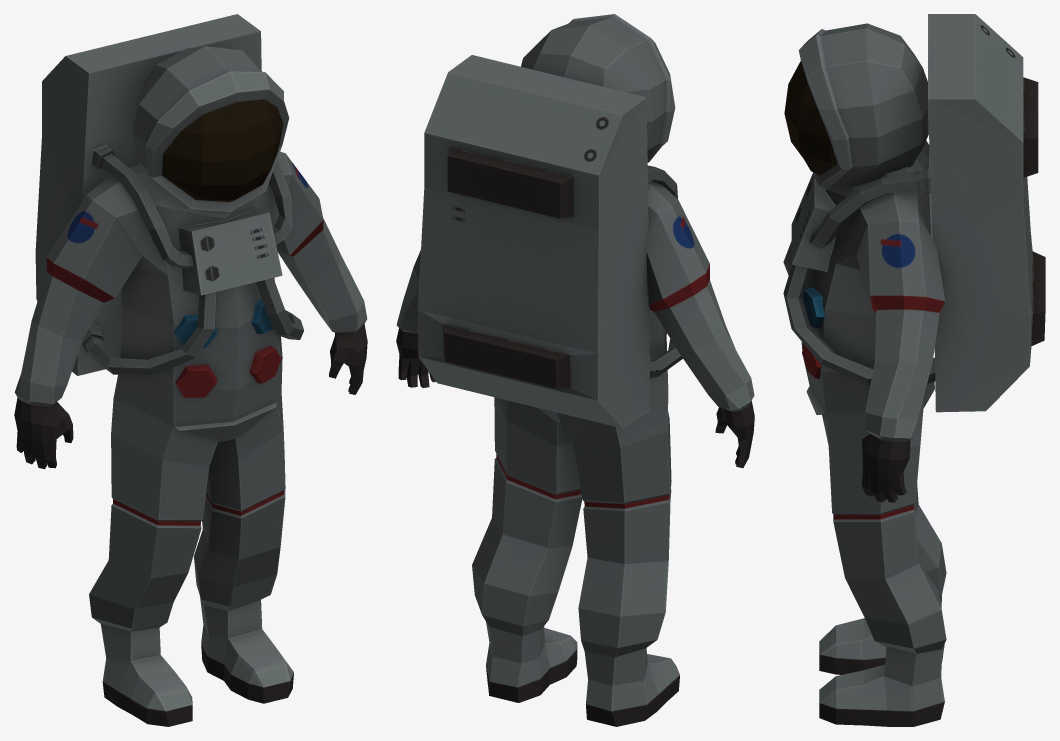
The model's file is Hershey.Astronaut.glb.
3 renders of one model, left to right at view 1: azimuth 30°, elevation 25°; view 2: azimuth 150°, elevation 25°; view 3: azimuth 270°, elevation 25°, orthographic.
Parts seen in each view (by area): view 1: node-0_n3d; view 2: node-0_n3d; view 3: node-0_n3d.
Boxes of the visible parts, bbox=[...] form: node-0_n3d: bbox=[14, 14, 367, 726]; node-0_n3d: bbox=[396, 14, 754, 726]; node-0_n3d: bbox=[783, 14, 1045, 726].
Size of the model in its own units: 1.12 by 2.01 by 0.7235.
Materials: 1 (1 with a texture image).
